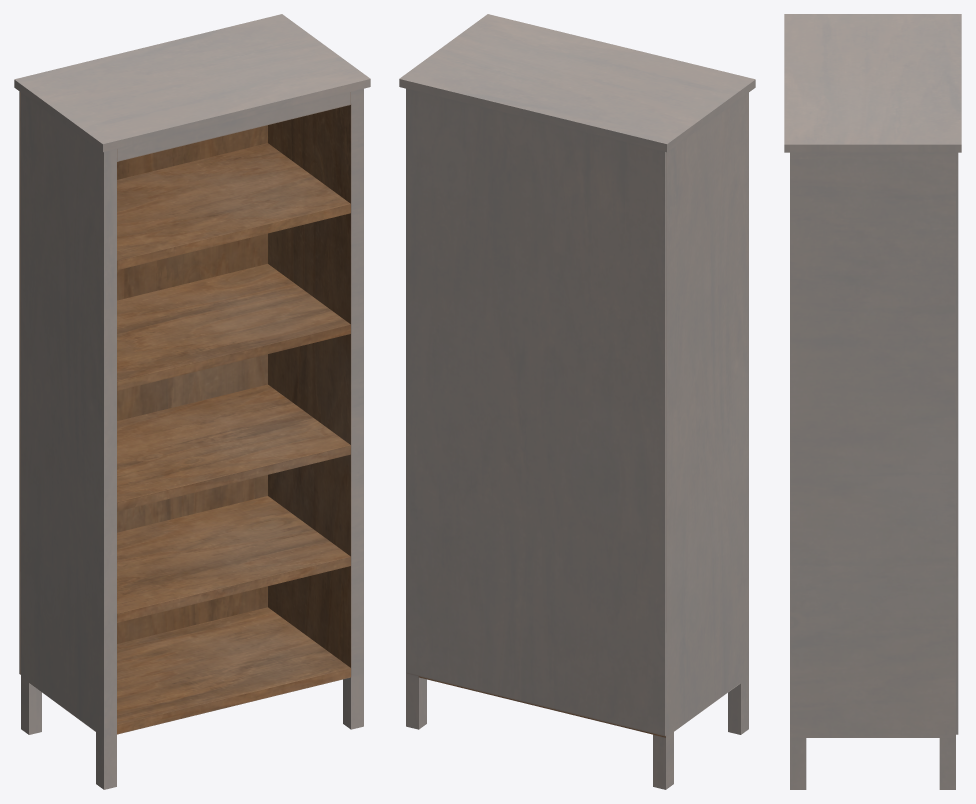
Rendered from cabinet_col4.glb.
3 views of the same model, side by side, from view 1: azimuth 30°, elevation 25°; view 2: azimuth 150°, elevation 25°; view 3: azimuth 270°, elevation 25° (orthographic).
Parts seen in each view (by area): view 1: Object_30.001; view 2: Object_30.001; view 3: Object_30.001.
Boxes of the visible parts, x1=… form: Object_30.001: x1=14, y1=14, x2=370, y2=789; Object_30.001: x1=399, y1=14, x2=755, y2=789; Object_30.001: x1=784, y1=14, x2=961, y2=789.
Bounding box in the file's own units: 0.9111 × 2.11 × 0.5222.
1 material, 1 textured.
